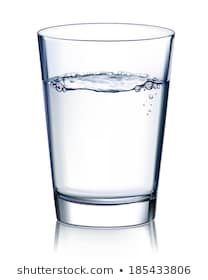glass of water: (51, 35, 151, 209)
